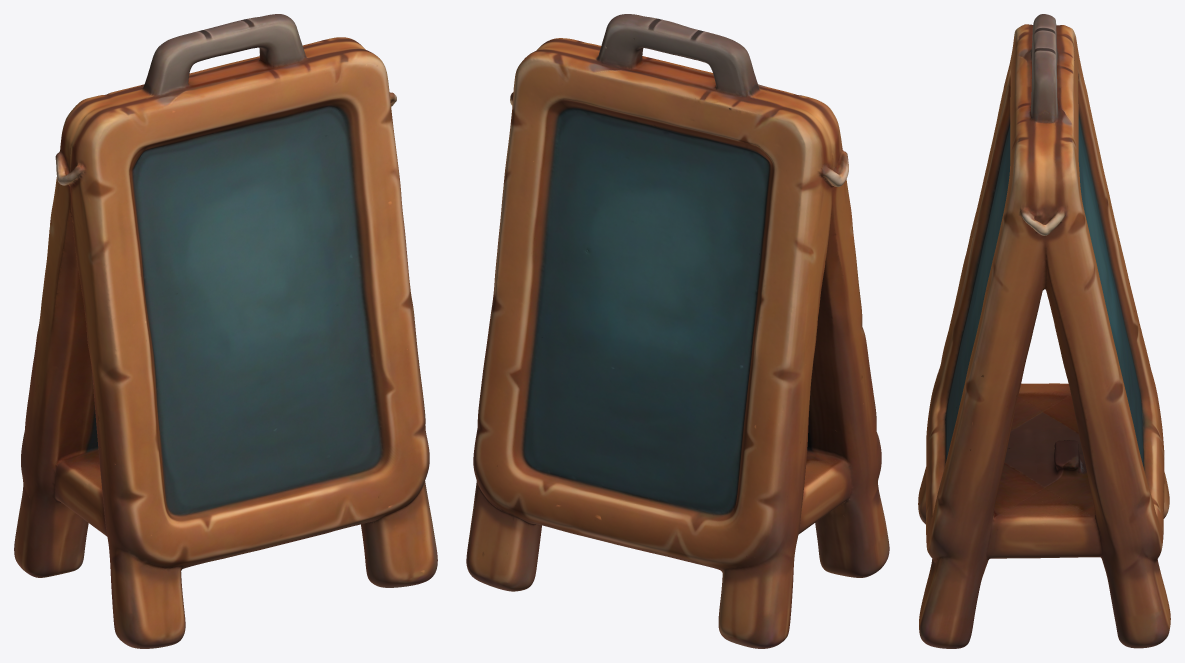
Rendered from Chalkboard.fbx.
The picture shows the model from 3 angles, left to right: view 1: azimuth 30°, elevation 25°; view 2: azimuth 150°, elevation 25°; view 3: azimuth 270°, elevation 25°; orthographic projection.
Parts seen in each view (by area): view 1: Mesh_0; view 2: Mesh_0; view 3: Mesh_0.
Boxes of the visible parts, x1=… form: Mesh_0: x1=14, y1=14, x2=437, y2=648; Mesh_0: x1=466, y1=14, x2=889, y2=648; Mesh_0: x1=918, y1=14, x2=1170, y2=648.
Size of the model in its own units: 126 by 200 by 84.31.
1 material, 1 textured.
